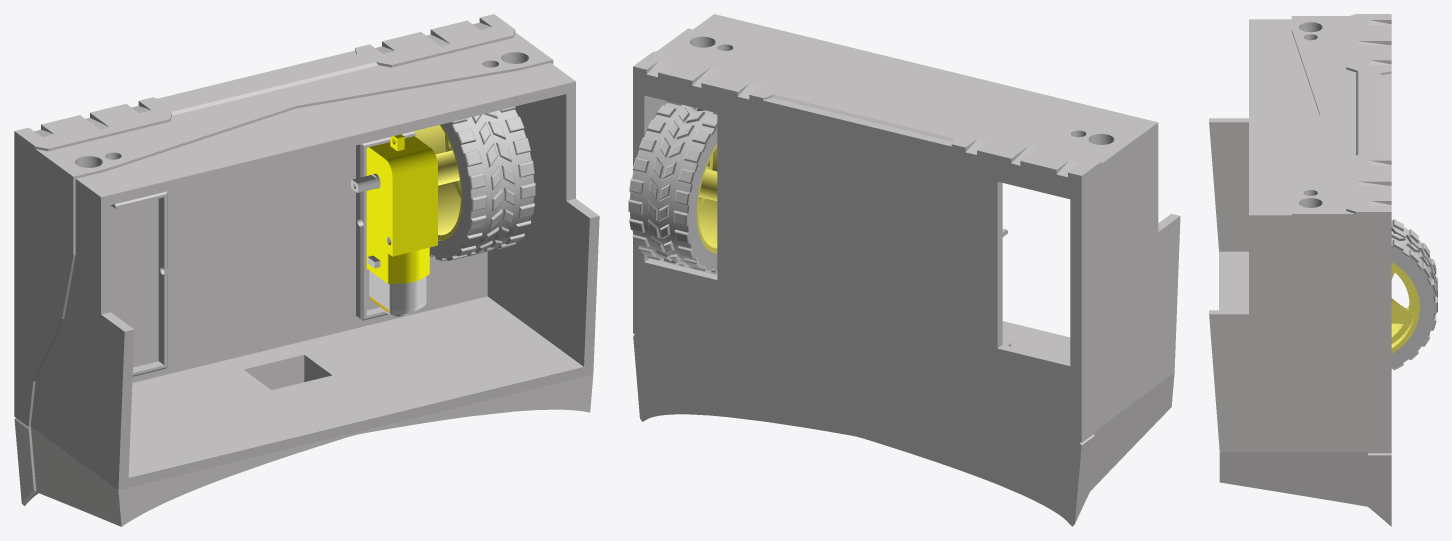
3 renders of one model, left to right at view 1: azimuth 30°, elevation 25°; view 2: azimuth 150°, elevation 25°; view 3: azimuth 270°, elevation 25°, orthographic. The views are drawn at different scales.
Visible parts, largest first — view 1: RobotFutbolista_Finiquitado v1 (×4), Exterior (×10), 1103 v1, Interior; view 2: RobotFutbolista_Finiquitado v1 (×2), Exterior (×13), Interior; view 3: RobotFutbolista_Finiquitado v1 (×2), Exterior (×6), Interior.
Part boxes in pixels (x1,y1,x2,y2): RobotFutbolista_Finiquitado v1 (×4): [14, 14, 599, 526]; Exterior (×10): [429, 106, 535, 261]; 1103 v1: [351, 134, 437, 316]; Interior: [414, 124, 462, 240]; RobotFutbolista_Finiquitado v1 (×2): [633, 14, 1180, 526]; Exterior (×13): [628, 103, 717, 272]; Interior: [697, 144, 717, 253]; RobotFutbolista_Finiquitado v1 (×2): [1209, 14, 1391, 526]; Exterior (×6): [1391, 219, 1435, 367]; Interior: [1391, 262, 1419, 353].
Bounding box in the file's own units: 19.7 × 14.82 × 9.63.
